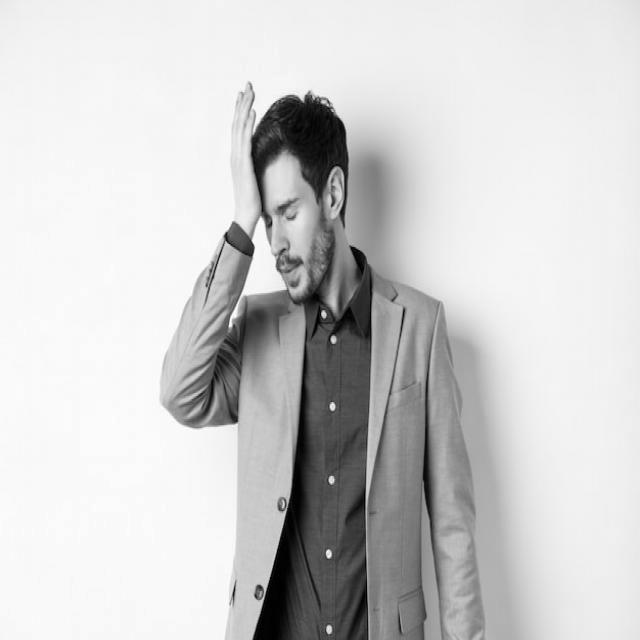real: (253, 133, 352, 305), (256, 192, 316, 230)
